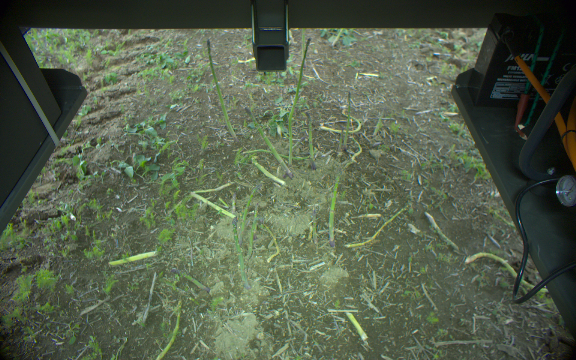aspa: (244, 107, 290, 180), (206, 39, 236, 139), (229, 218, 250, 289), (291, 39, 312, 107), (240, 184, 262, 232), (328, 171, 341, 246), (302, 112, 318, 166), (170, 269, 208, 290), (344, 89, 353, 152), (286, 110, 296, 166), (309, 206, 320, 247), (336, 125, 347, 154), (229, 192, 239, 215), (298, 29, 306, 57)
